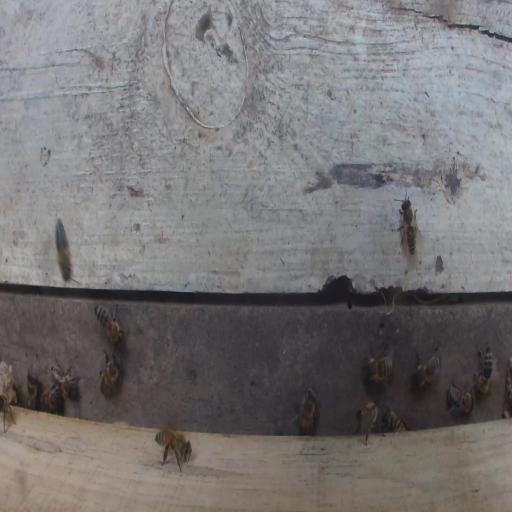nonpollenbee: (394, 184, 425, 256), (155, 426, 193, 472), (411, 345, 441, 390), (363, 343, 394, 384), (94, 304, 123, 346), (50, 362, 80, 401), (55, 219, 73, 282), (355, 400, 379, 447), (294, 386, 317, 435), (99, 348, 121, 397), (473, 343, 493, 396), (447, 383, 474, 416), (382, 406, 409, 433), (41, 386, 65, 414), (0, 394, 17, 432), (26, 373, 38, 410)
